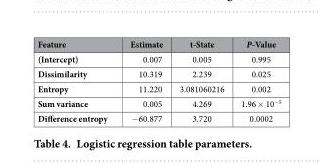table: (36, 37, 280, 124)
table column: (36, 37, 118, 124), (170, 37, 231, 124), (118, 37, 170, 124), (231, 37, 280, 124)
table column header: (36, 37, 280, 51)
table row: (36, 65, 280, 80), (36, 80, 280, 95), (36, 95, 280, 110), (36, 37, 280, 51), (36, 51, 280, 65), (36, 110, 280, 124)
